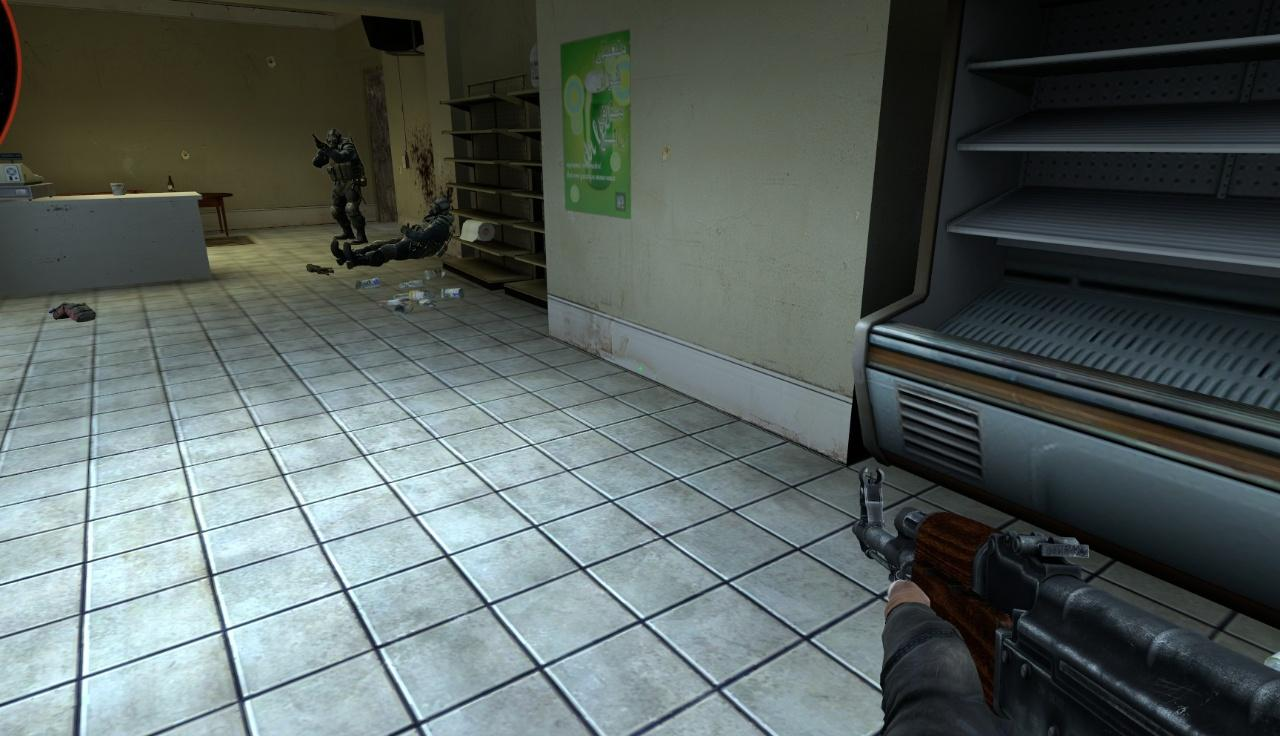ct: (313, 129, 367, 244)
cthead: (327, 130, 341, 148)
rifle: (853, 467, 1280, 736)
